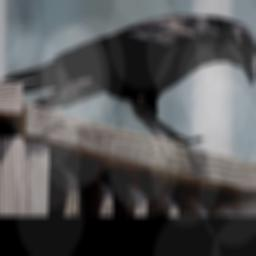Crow: (1, 13, 256, 145)
